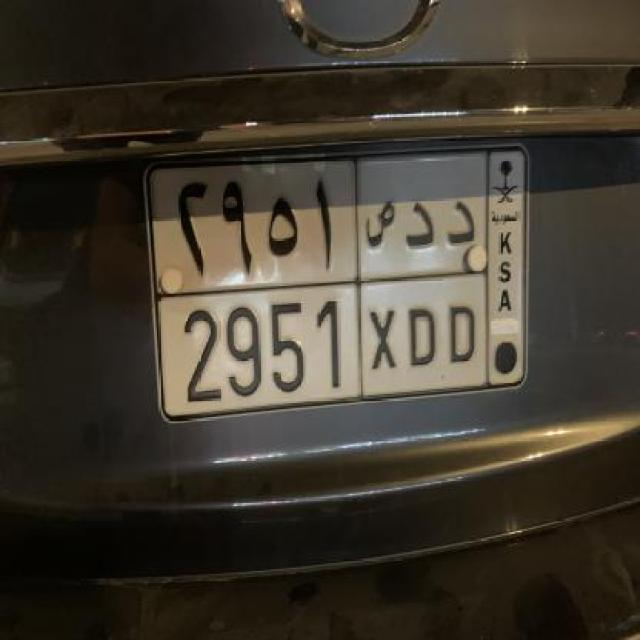license_plate: (142, 137, 532, 428)
